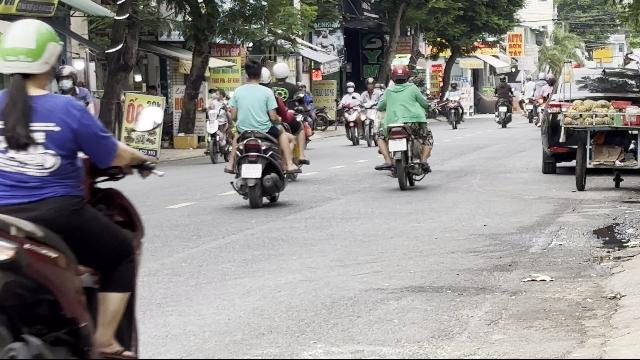helmet: (1, 16, 64, 86), (54, 64, 78, 92), (390, 63, 410, 83), (271, 62, 289, 82), (258, 64, 270, 84)
licenseplate: (242, 164, 260, 178), (389, 139, 407, 151)
motorcyclist: (0, 13, 158, 355), (222, 59, 308, 207), (372, 61, 436, 188)
nohelmet: (241, 61, 263, 84)
